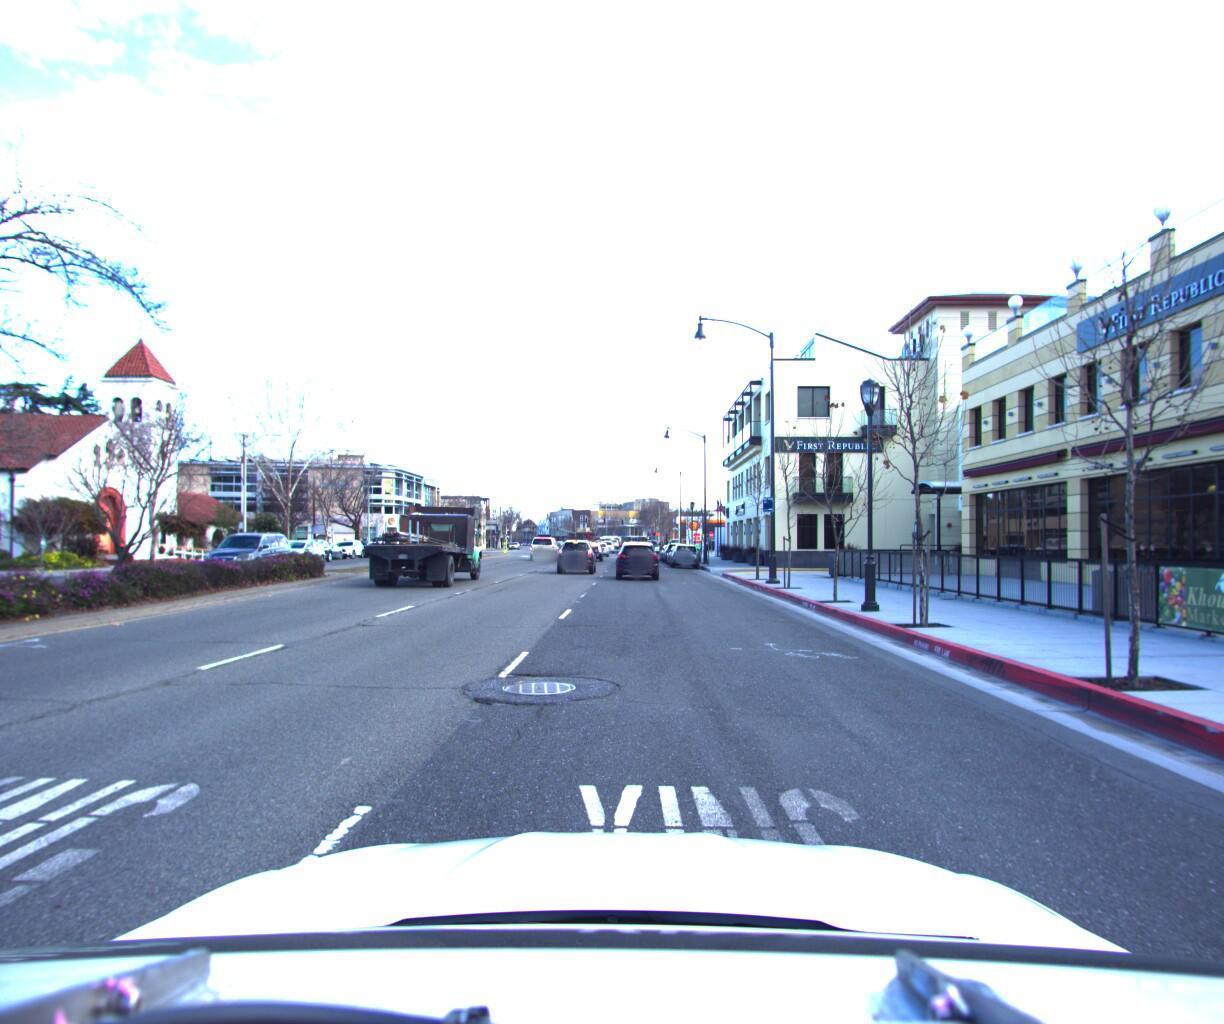car: (196, 527, 298, 575), (615, 536, 661, 577), (272, 536, 331, 565), (552, 534, 596, 570), (665, 537, 699, 564), (529, 530, 560, 559), (331, 534, 366, 556), (582, 539, 606, 560)
truck: (358, 488, 494, 587)
